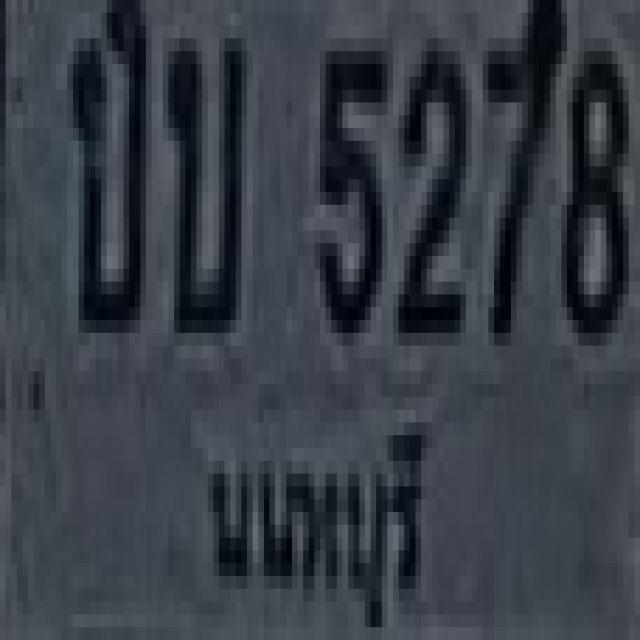2: (396, 32, 463, 326)
5: (314, 32, 382, 326)
7: (480, 0, 559, 333)
8: (562, 38, 624, 333)
A26: (65, 0, 143, 320), (163, 26, 241, 320)
NBI: (198, 400, 433, 640)
